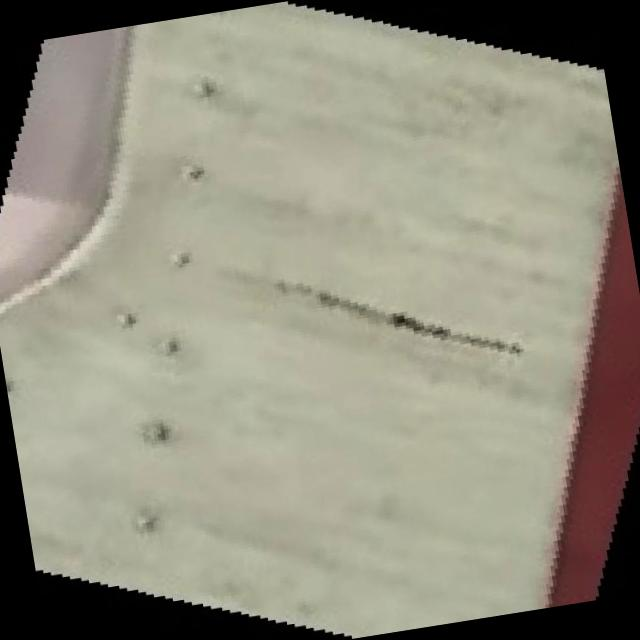crack: (211, 232, 538, 423)
